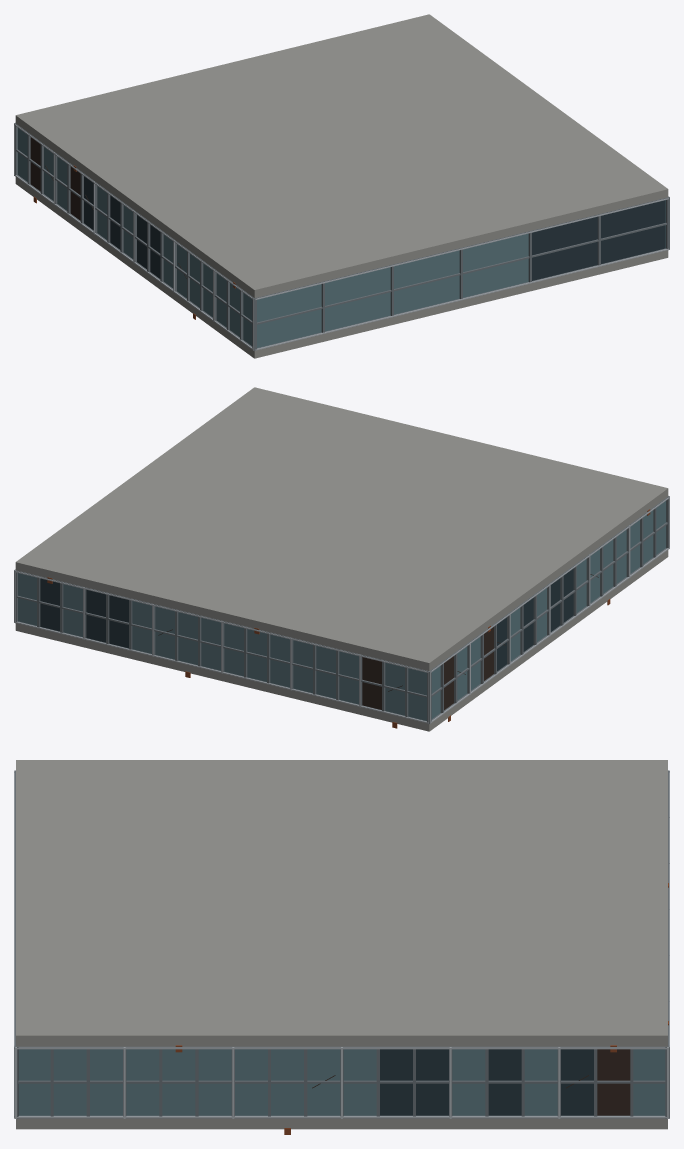
File: tw_glass_24_floor.glb
The picture shows the model from 3 angles, top to bottom: view 1: azimuth 30°, elevation 25°; view 2: azimuth 150°, elevation 25°; view 3: azimuth 270°, elevation 25°; orthographic projection. The views are drawn at different scales.
Visible parts, largest first — view 1: tw_glass_24_floor; view 2: tw_glass_24_floor; view 3: tw_glass_24_floor.
Part boxes in pixels (bbox=[...]): tw_glass_24_floor: bbox=[14, 14, 669, 358]; tw_glass_24_floor: bbox=[14, 387, 669, 731]; tw_glass_24_floor: bbox=[14, 760, 669, 1134].
Bounding box in the file's own units: 24.14 × 4.05 × 24.14.
Materials: 3 (3 with a texture image).
